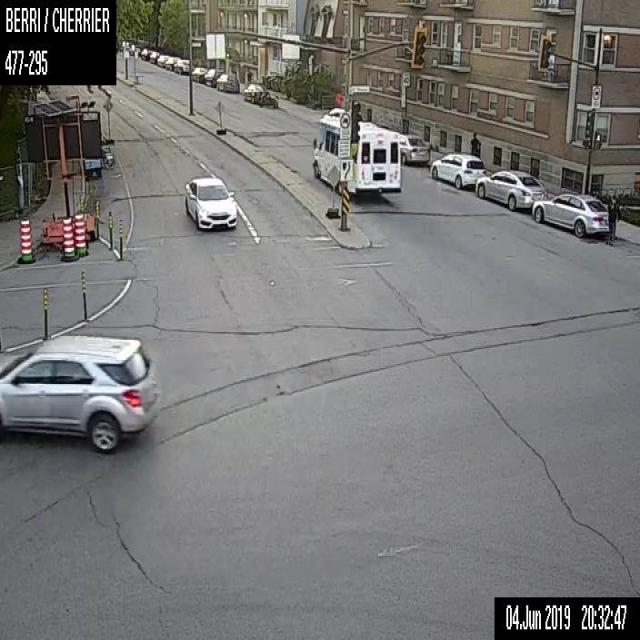bus: (311, 106, 401, 192)
construction: (26, 96, 104, 252), (325, 164, 339, 217), (60, 216, 75, 263), (18, 215, 33, 261), (74, 211, 88, 257), (211, 98, 226, 134), (102, 97, 113, 143), (81, 268, 87, 319), (43, 284, 47, 339), (118, 219, 123, 257), (108, 212, 112, 249)
pedestrian: (607, 193, 620, 242), (468, 131, 481, 156)
vehicle: (0, 332, 160, 453), (532, 192, 610, 236), (474, 169, 546, 209), (184, 177, 237, 228), (431, 153, 486, 186), (400, 133, 430, 164), (216, 72, 239, 90), (243, 82, 264, 101), (258, 91, 278, 108), (204, 68, 223, 85), (191, 66, 207, 82), (174, 59, 188, 73), (165, 56, 180, 69), (141, 48, 153, 60), (149, 51, 160, 63), (157, 54, 168, 65), (128, 46, 140, 54)
